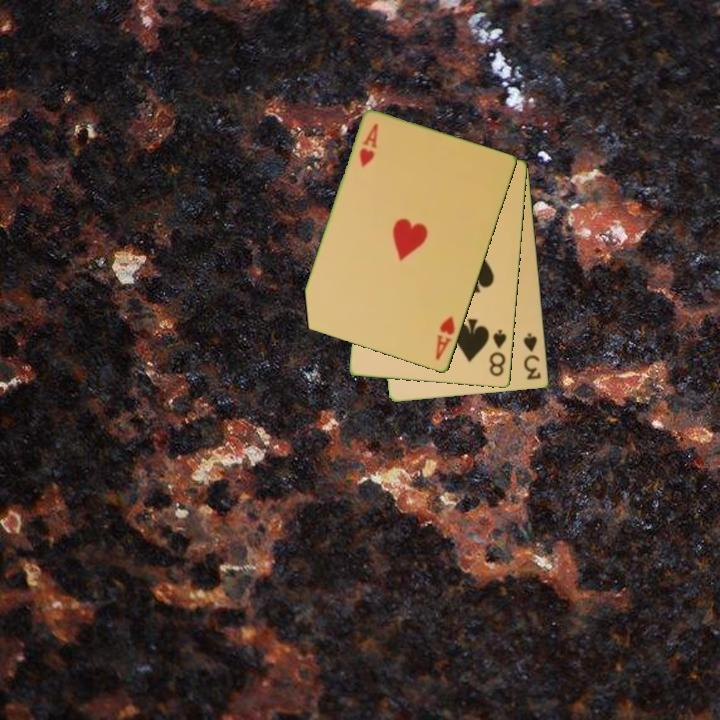3s: (520, 330, 544, 383)
8s: (486, 326, 510, 379)
Ah: (432, 313, 458, 363), (356, 120, 381, 171)
